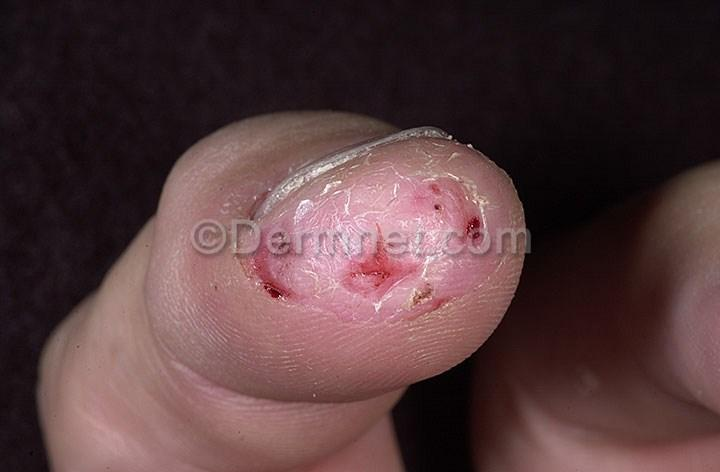Eczema: (228, 217, 353, 339), (410, 213, 509, 320), (339, 224, 438, 326), (375, 160, 472, 222), (306, 177, 380, 242), (458, 162, 511, 222), (385, 370, 387, 371)
